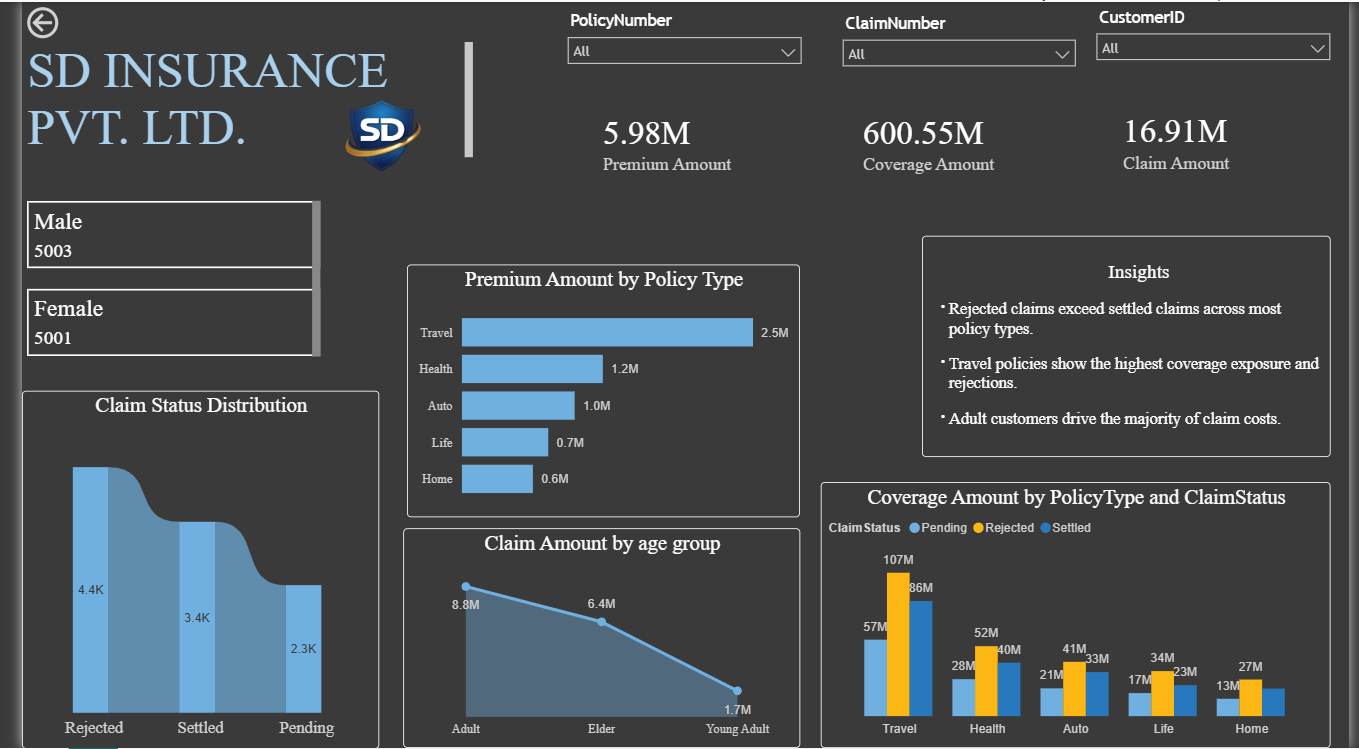

The page's visual inventory and layout, read from the dashboard file:
{"tool":"powerbi","page":{"name":"insurance analysis","canvas":[1280,720],"ordinal":0},"visuals":[{"type":"slicer","fields":{"Values":["InsuranceData.PolicyNumber"]},"box":[1032.7,208.7,244.9,68.8],"z":0},{"type":"textbox","box":[0,33.8,470.5,188],"z":1000},{"type":"cardVisual","fields":{"Data":["Sum(InsuranceData.PremiumAmount)"]},"box":[523.6,20.5,225.6,123.1],"z":2000},{"type":"cardVisual","fields":{"Data":["Sum(InsuranceData.ClaimAmount)"]},"box":[1032.7,20.5,232.8,113.4],"z":3000},{"type":"multiRowCard","fields":{"Values":["CountNonNull(InsuranceData.Gender)","InsuranceData.Gender"]},"box":[1.2,208.7,328.2,181],"z":4000},{"type":"ribbonChart","title":"Claim Status Distribution","fields":{"Category":["InsuranceData.ClaimStatus"],"Y":["CountNonNull(InsuranceData.ClaimStatus)"]},"box":[0,405.4,329.4,301.6],"z":5000},{"type":"barChart","title":"Premium Amount by Policy Type","fields":{"Category":["InsuranceData.PolicyType"],"Y":["Sum(InsuranceData.PremiumAmount)"]},"box":[368,208.7,358.3,222],"z":6000},{"type":"lineChart","title":" Claim Amount by age group","fields":{"Category":["InsuranceData.age group"],"Y":["Sum(InsuranceData.ClaimAmount)"]},"box":[368,459.7,368,247.3],"z":7000},{"type":"clusteredColumnChart","title":"Coverage Amount by policy type","fields":{"Category":["InsuranceData.PolicyType"],"Y":["Sum(InsuranceData.CoverageAmount)"],"Series":["InsuranceData.ClaimStatus"]},"box":[802.3,323.3,460.9,383.6],"z":8000},{"type":"actionButton","box":[0,0,100,40],"z":9000},{"type":"image","box":[235.3,100.1,108.6,85.7],"z":10000},{"type":"cardVisual","fields":{"Data":["Sum(InsuranceData.CoverageAmount)"]},"box":[785.4,20.5,219.6,113.4],"z":11000},{"type":"slicer","fields":{"Values":["InsuranceData.CustomerID"]},"box":[781.8,208.7,250.9,89.3],"z":12000}]}

Visuals, with their boxes in screenshot pixels (x1, y1, x2, y2), scaled from the page's 1280x720 canvas onto the 1359x749 screenshot:
slicer - InsuranceData.PolicyNumber: [1096, 217, 1356, 289]
textbox: [0, 35, 500, 231]
cardVisual - Sum(InsuranceData.PremiumAmount): [556, 21, 795, 149]
cardVisual - Sum(InsuranceData.ClaimAmount): [1096, 21, 1344, 139]
multiRowCard - CountNonNull(InsuranceData.Gender) x InsuranceData.Gender: [1, 217, 350, 405]
"Claim Status Distribution" ribbonChart: [0, 422, 350, 735]
"Premium Amount by Policy Type" barChart: [391, 217, 771, 448]
" Claim Amount by age group" lineChart: [391, 478, 781, 735]
"Coverage Amount by policy type" clusteredColumnChart: [852, 336, 1341, 735]
actionButton: [0, 0, 106, 42]
image: [250, 104, 365, 193]
cardVisual - Sum(InsuranceData.CoverageAmount): [834, 21, 1067, 139]
slicer - InsuranceData.CustomerID: [830, 217, 1096, 310]
